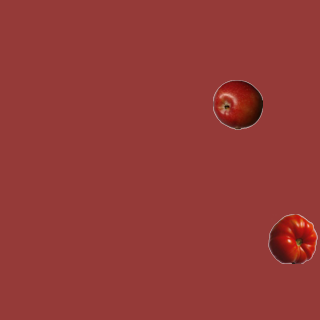Apple Braeburn: (212, 79, 262, 129)
Tomato 3: (267, 213, 317, 263)
